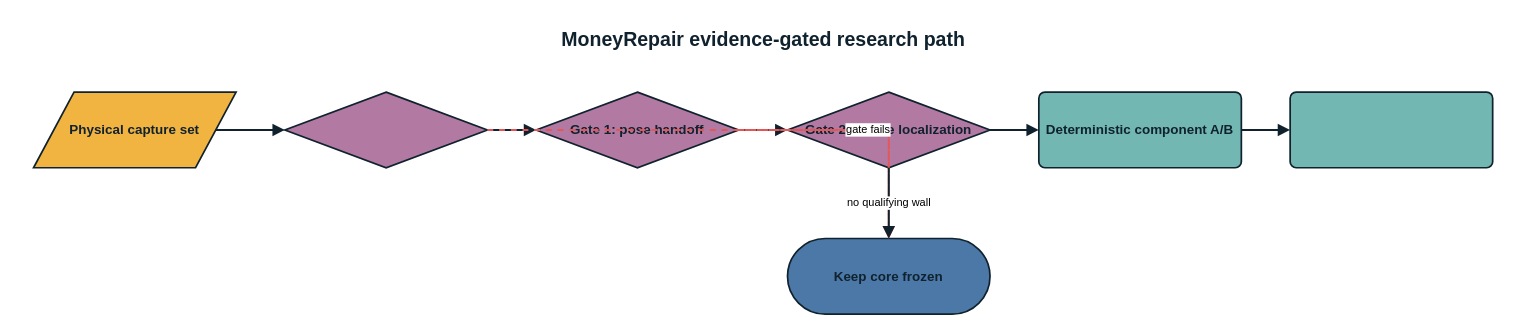
This 1525x336 diagram has some shape labels left out. Here are the shapes that lost their labels. From the top down, the box of each, then its label:
(283, 91, 488, 168): Gate 0: mask contract
(1289, 91, 1493, 168): Conditional seam descriptor
